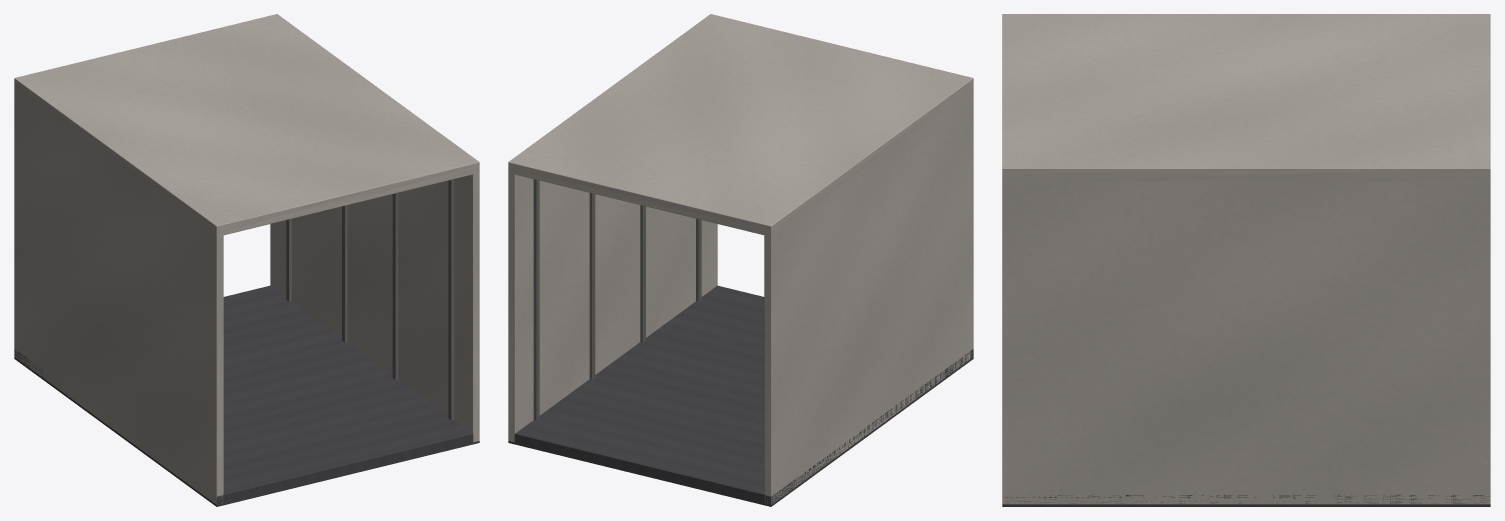
File: corridor_connector.glb
3 views of the same model, side by side, from view 1: azimuth 30°, elevation 25°; view 2: azimuth 150°, elevation 25°; view 3: azimuth 270°, elevation 25° (orthographic). The views are drawn at different scales.
Visible parts, largest first — view 1: wall, ceiling.002, floor.004, wall.001, wall_support.004, wall_support.005, wall_support.006; view 2: wall, ceiling.002, floor.004, wall.001, wall_support.007, wall_support.006, wall_support.005; view 3: wall.001, ceiling.002, floor.004.
Boxes of the visible parts, x1,y1,x2,y2 form: wall: (14, 82, 223, 504); ceiling.002: (14, 14, 479, 236); floor.004: (14, 285, 479, 506); wall.001: (270, 168, 479, 442); wall_support.004: (448, 179, 454, 420); wall_support.005: (392, 193, 398, 379); wall_support.006: (342, 205, 347, 342); wall: (764, 82, 973, 504); ceiling.002: (508, 14, 973, 236); floor.004: (508, 285, 973, 506); wall.001: (508, 167, 717, 442); wall_support.007: (533, 179, 539, 420); wall_support.006: (589, 193, 595, 379); wall_support.005: (640, 205, 645, 342); wall.001: (1002, 173, 1490, 504); ceiling.002: (1002, 14, 1490, 181); floor.004: (1002, 494, 1490, 506).
Bounding box in the file's own units: 3 × 3.06 × 4.
Materials: 4 (3 with a texture image).
